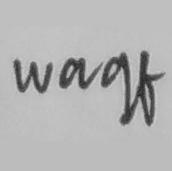a: (57, 54, 88, 92)
f: (136, 48, 160, 127)
q: (97, 50, 133, 128)
w: (10, 56, 55, 95)
